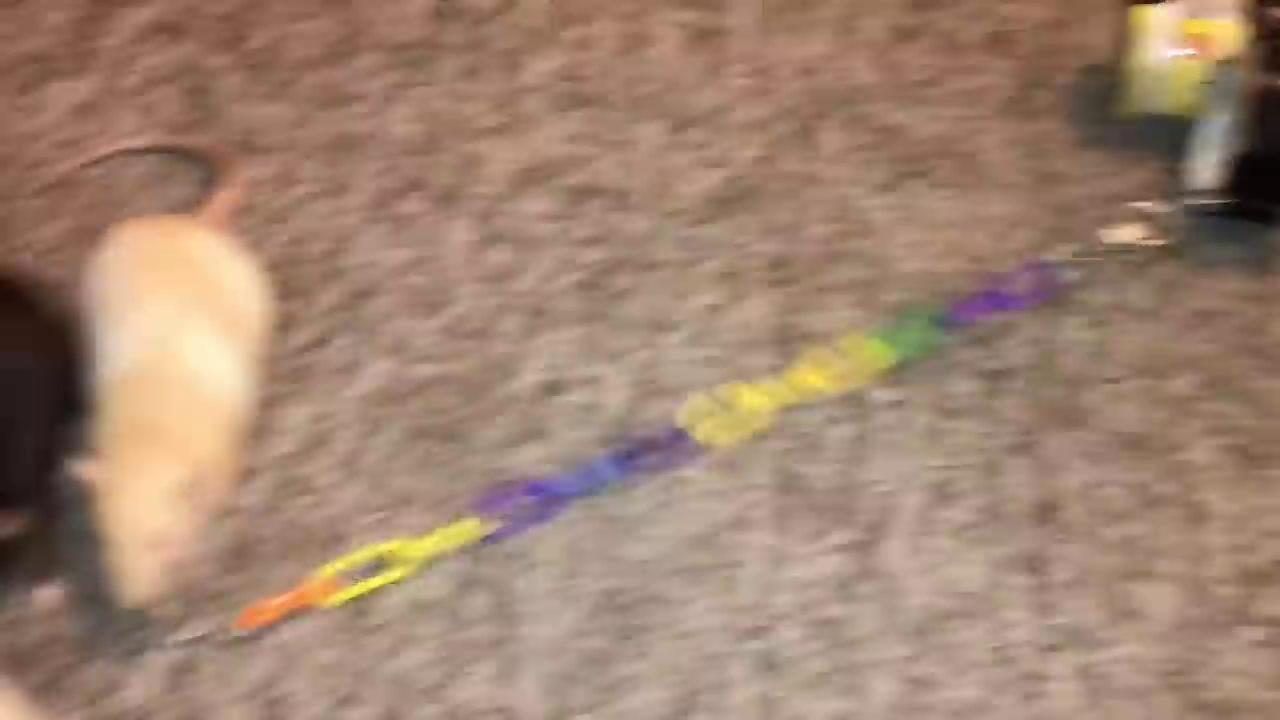rat: (53, 132, 269, 631)
